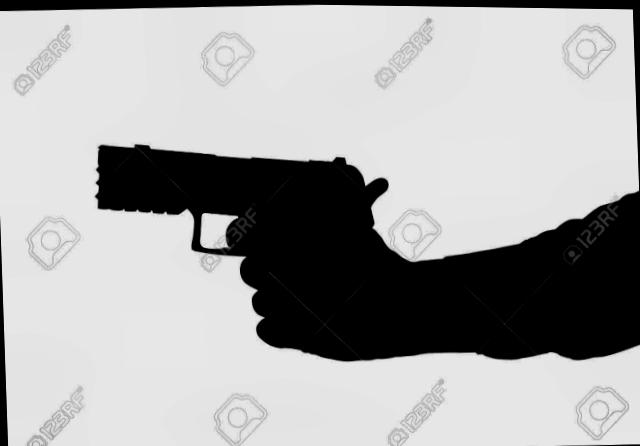pistol: (96, 129, 393, 354)
